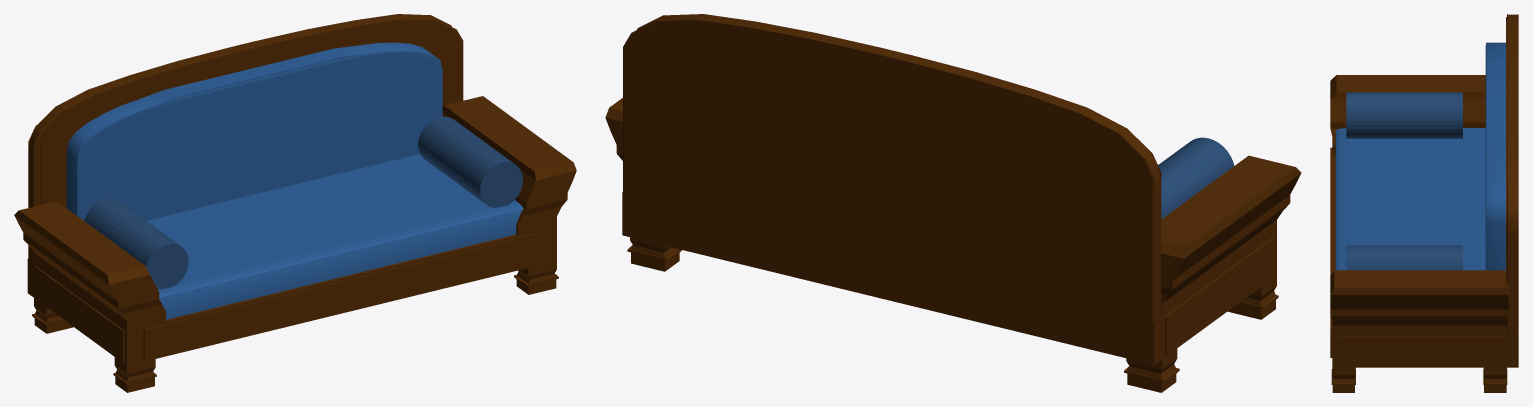
Rendered from M_CanapeBleu.fbx.
3 renders of one model, left to right at view 1: azimuth 30°, elevation 25°; view 2: azimuth 150°, elevation 25°; view 3: azimuth 270°, elevation 25°, orthographic. The views are drawn at different scales.
Visible parts, largest first — view 1: Cylinder; view 2: Cylinder; view 3: Cylinder.
Part boxes in pixels (box(x1,y1,x2,y2)): Cylinder: box(14, 14, 576, 392); Cylinder: box(605, 14, 1301, 392); Cylinder: box(1330, 14, 1518, 392).
Bounding box in the file's own units: 870 × 399 × 323.
